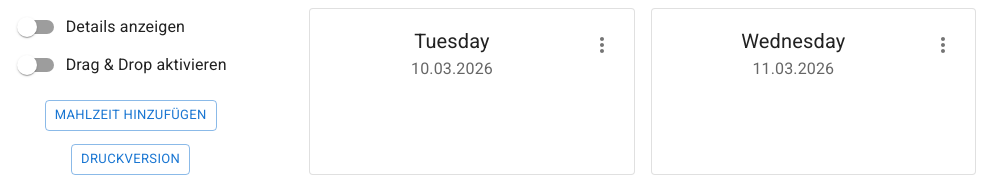
MenuplanHeaderRow › Kontextmenü — schliesst sofort bei Klick, unabhängig vom Dialog-Roundtrip › schliesst das Kontextmenü synchron beim Klick auf 'Notiz hinzufügen', bevor der Dialog aufgelöst ist
Step 1. Click the button named "settings" next to "10.03.2026" → (602, 45), box [578,21,626,69]
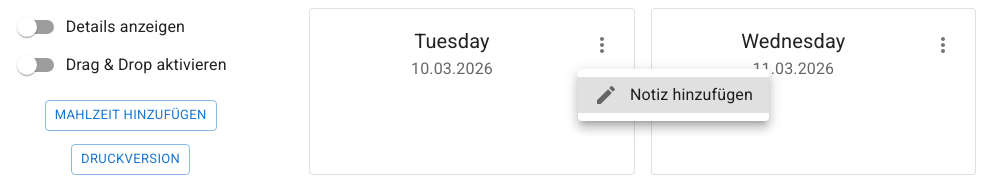
Check: the menu is shown, box [578,69,769,121]
Step 2. Click the menu item "Notiz hinzufügen" → (674, 95), box [578,77,769,113]
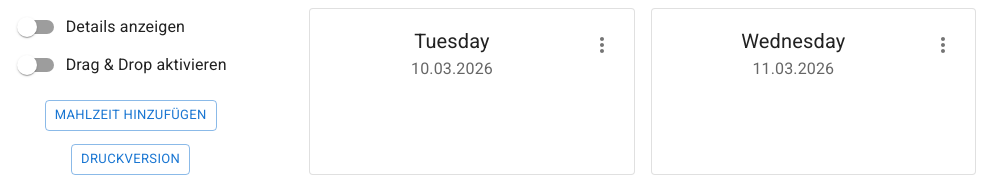
Check: the menu is gone
